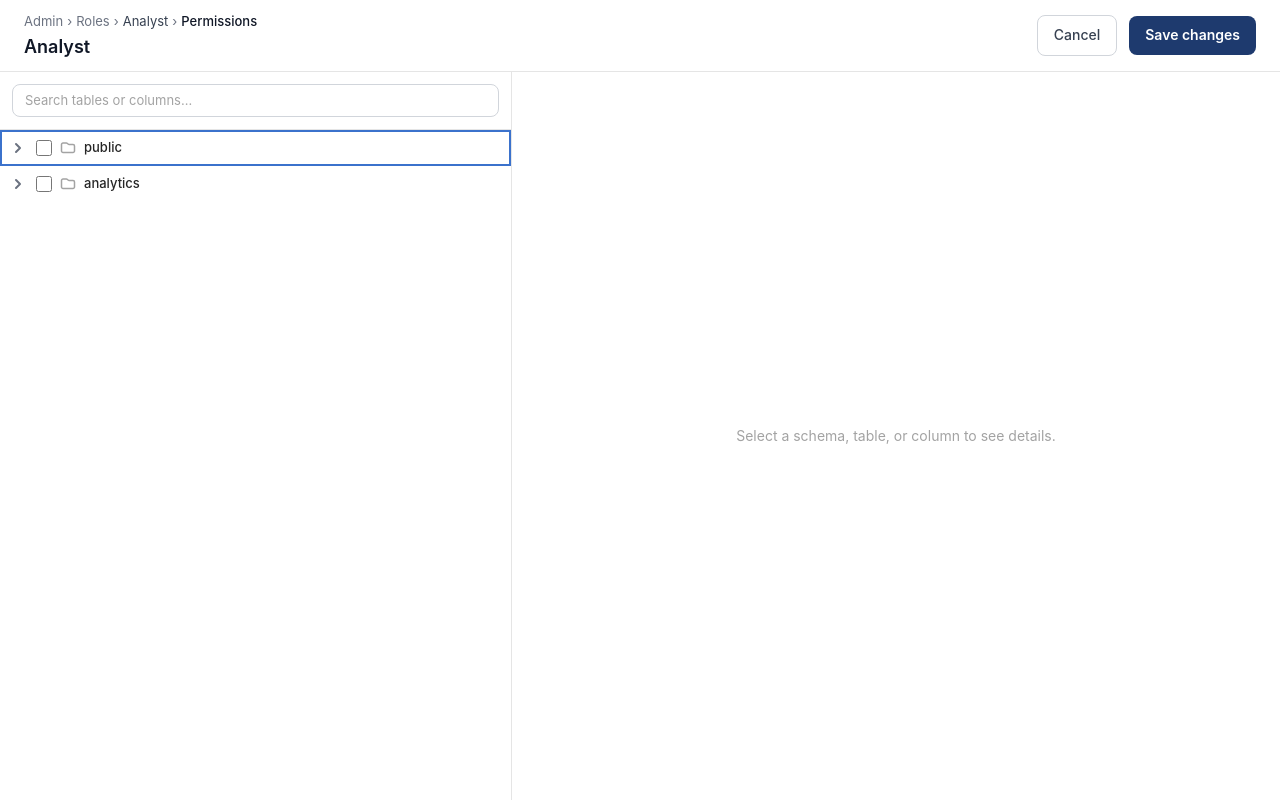
Scenario: PermissionEditorPage › tri-state checkboxes › checking a table toggles all-granted state
Expected: the text "public" is shown, [84,139,122,155]
Note: Expand public
Click the button named "Expand" next to "public".
click(18, 148)  # box [8,138,28,158]
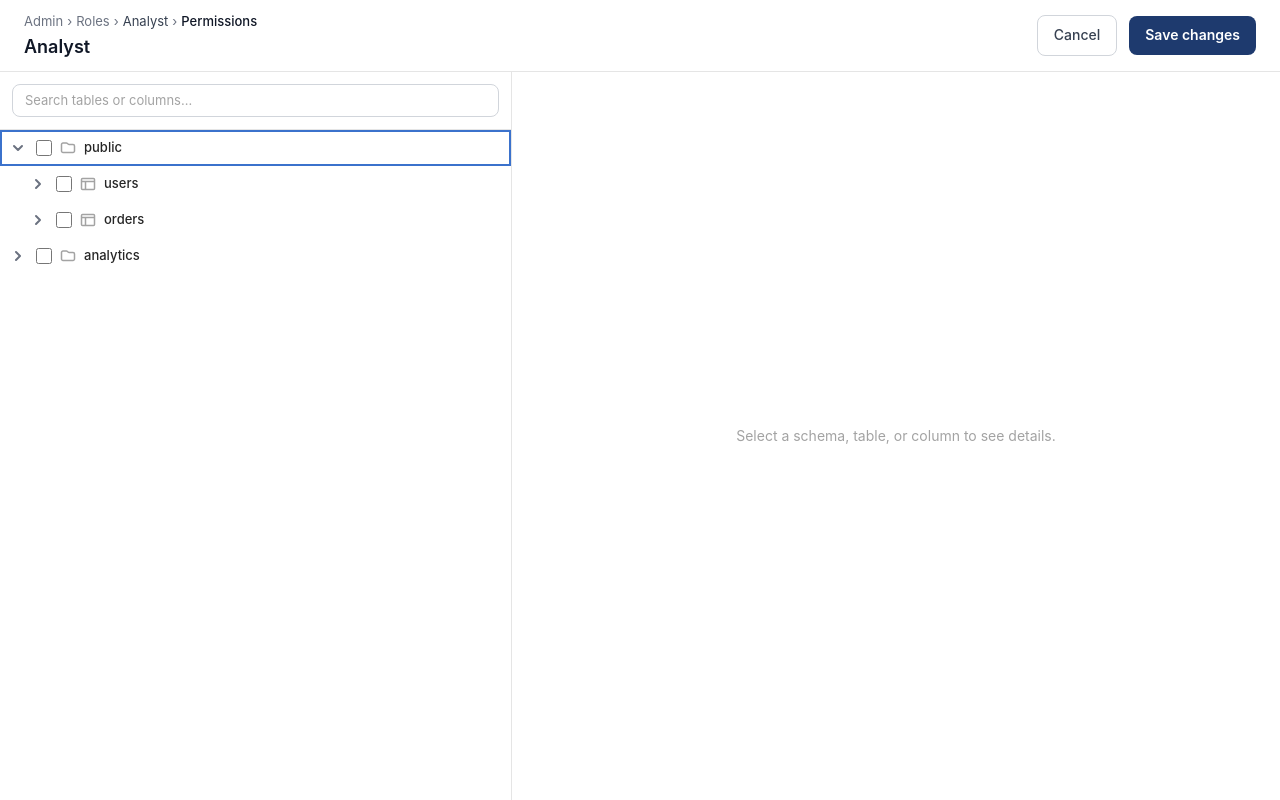
Expected: the text "users" is shown, [104,175,138,191]
Click the checkbox named "users — not granted".
click(64, 184)  # box [56,176,72,192]
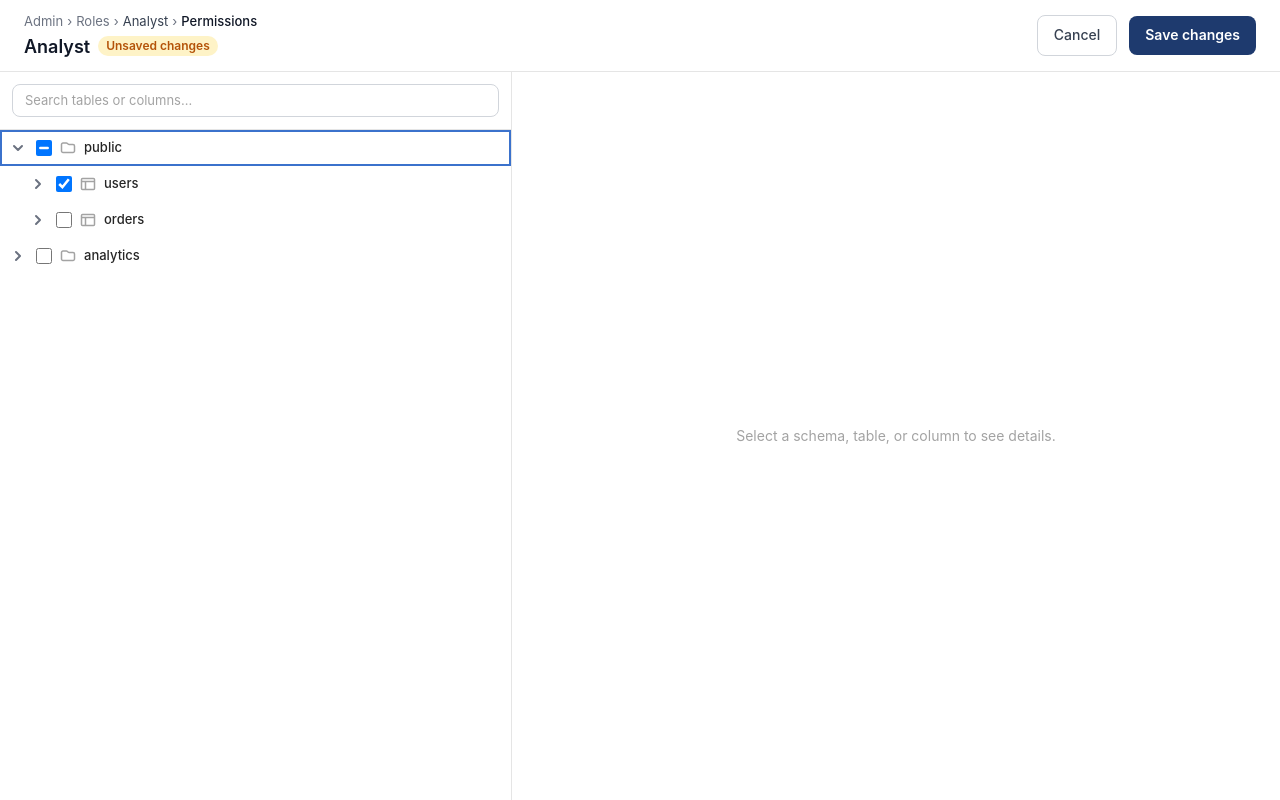
Expected: the checkbox named "users — granted" is checked, [56,176,72,192]
Expected: the text "Unsaved changes" is shown, [98,36,218,56]
